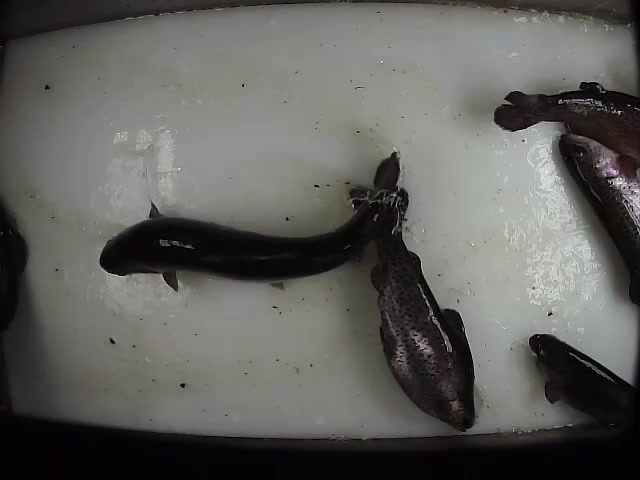fish: (95, 148, 403, 296), (345, 183, 476, 433), (558, 132, 640, 313), (528, 332, 640, 432), (493, 80, 640, 154)
